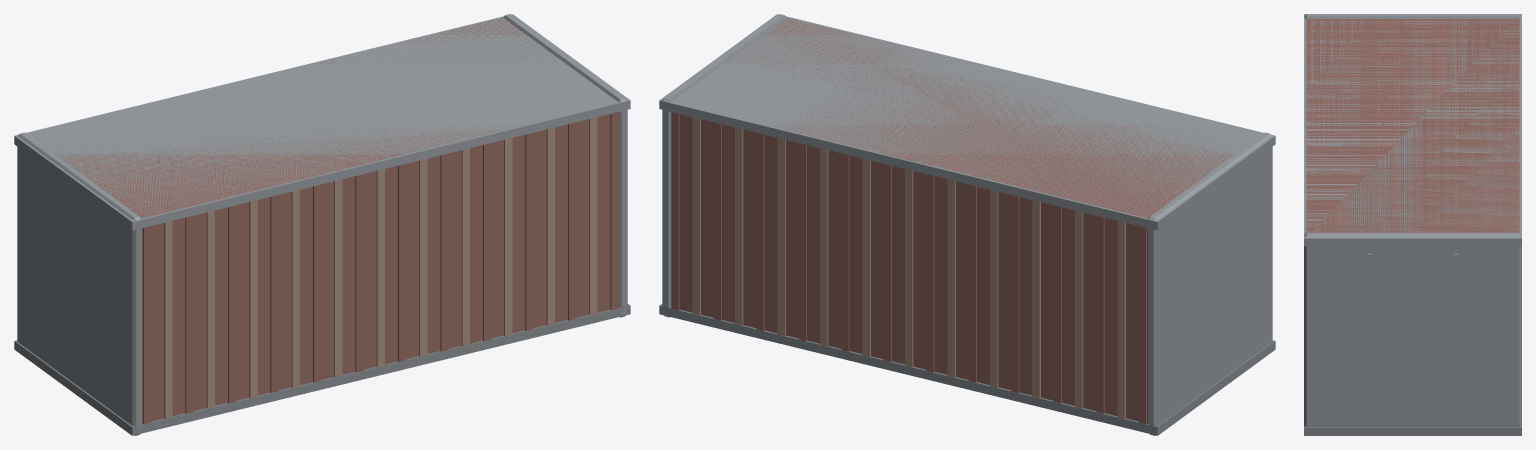
The model's file is escenario_container.glb.
The picture shows the model from 3 angles, left to right: view 1: azimuth 30°, elevation 25°; view 2: azimuth 150°, elevation 25°; view 3: azimuth 270°, elevation 25°; orthographic projection. The views are drawn at different scales.
Size of the model in its own units: 6.11 by 2.55 by 2.5.
